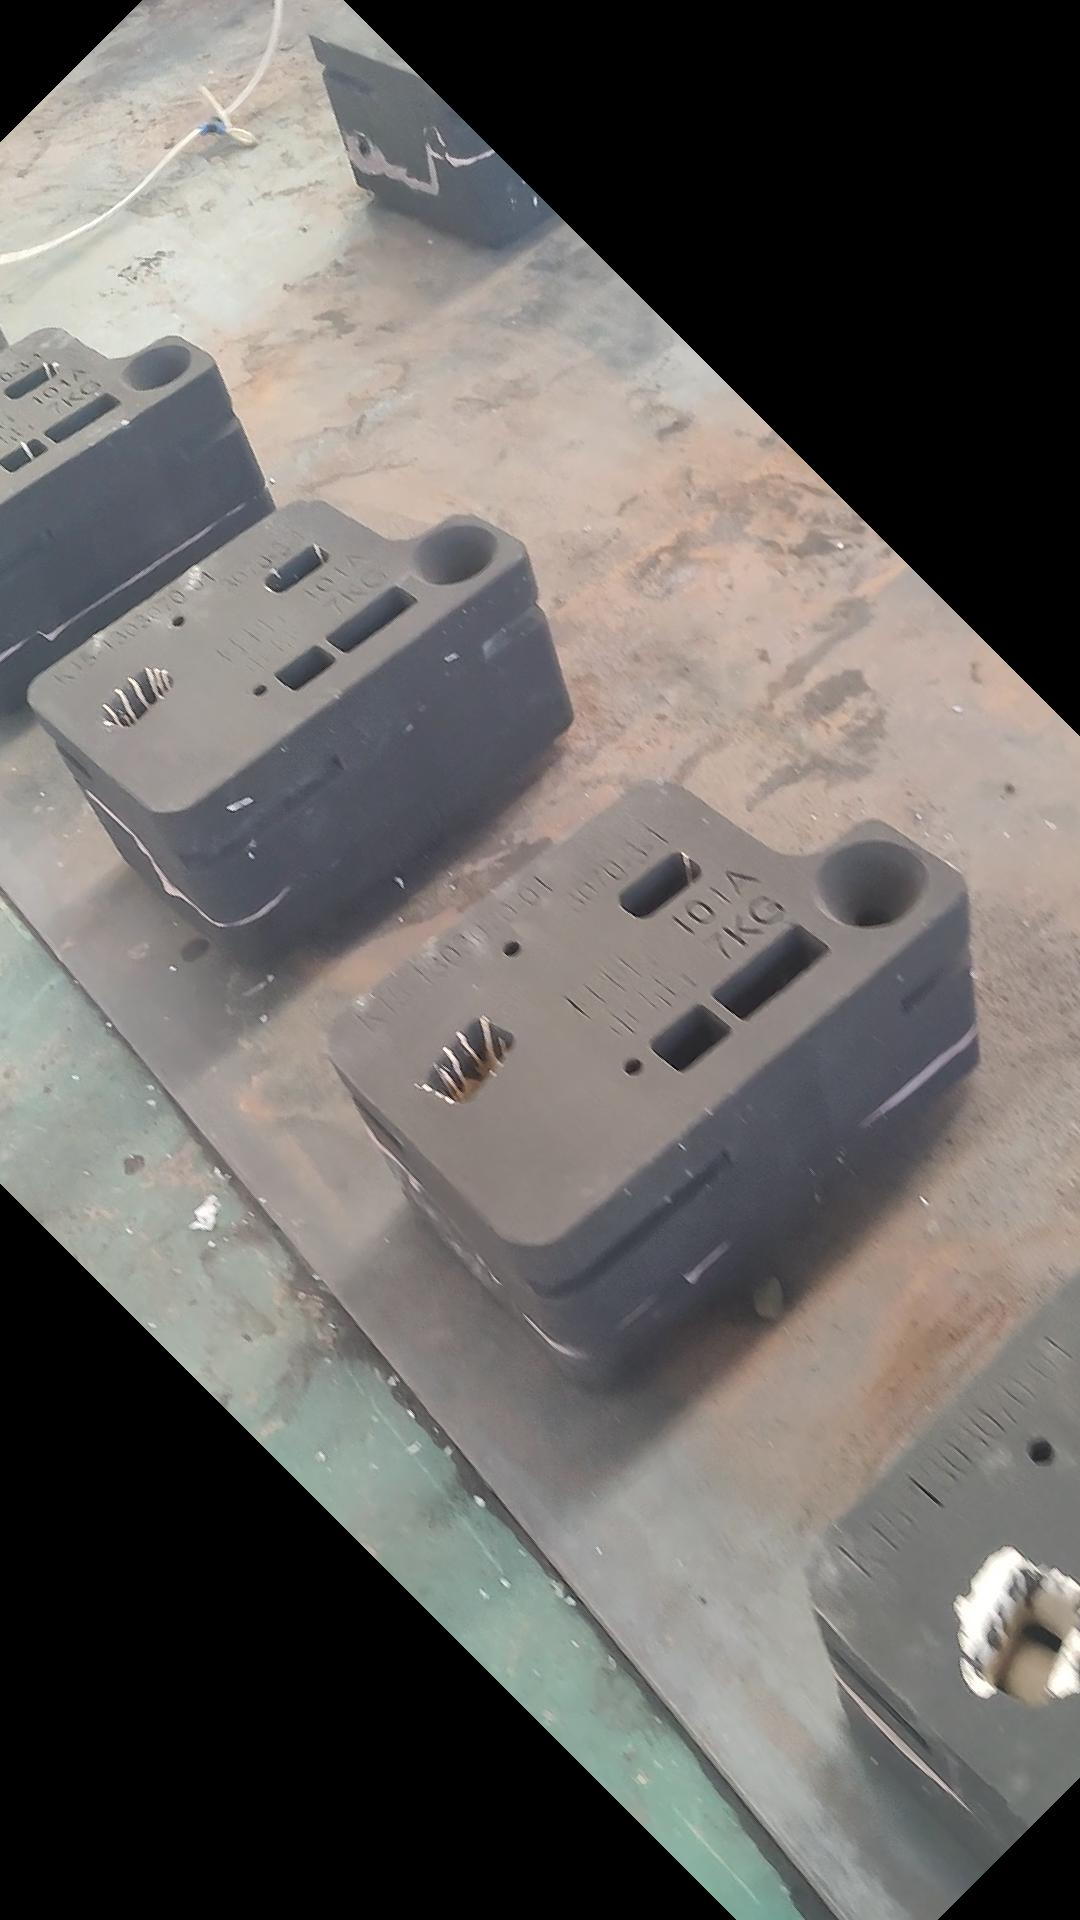pouring hole: (815, 840, 928, 928), (414, 525, 495, 584), (120, 345, 193, 392)
